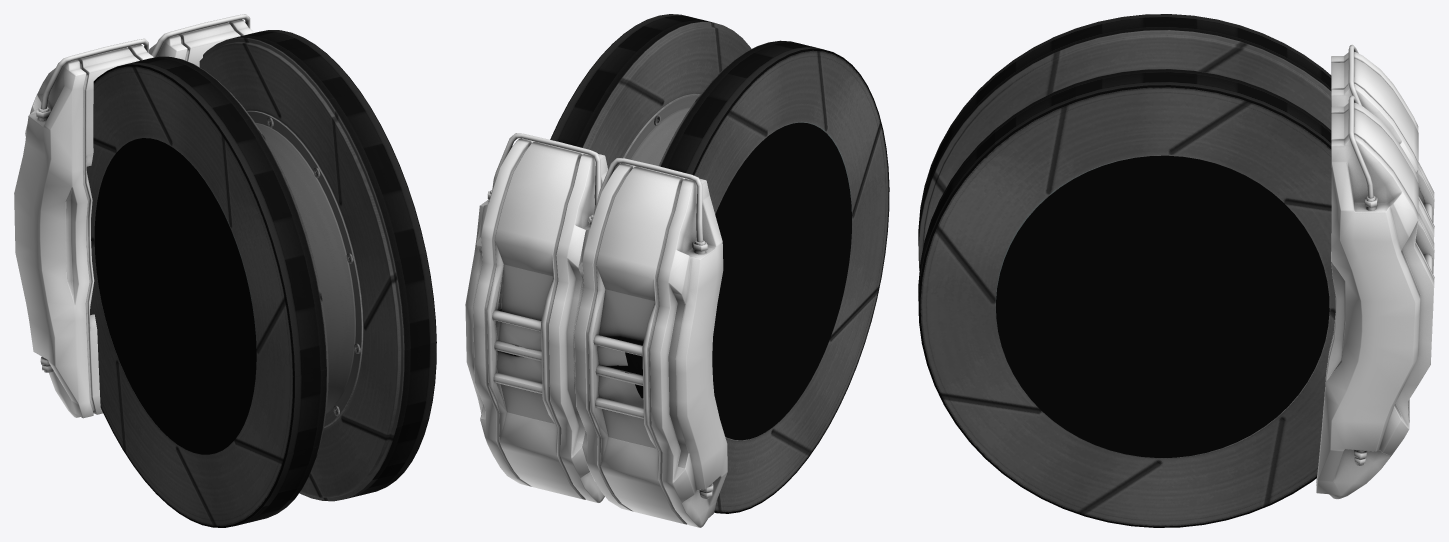
The model's file is mu_brakes.fbx.
The picture shows the model from 3 angles, left to right: view 1: azimuth 30°, elevation 25°; view 2: azimuth 150°, elevation 25°; view 3: azimuth 270°, elevation 25°; orthographic projection. The views are drawn at different scales.
Visible parts, largest first — view 1: mu_rotor, mu_rotor_R, mu_caliper, mu_caliper_R; view 2: mu_rotor, mu_caliper, mu_caliper_R, mu_rotor_R; view 3: mu_rotor_R, mu_caliper_R, mu_rotor, mu_caliper.
Boxes of the visible parts, x1=… form: mu_rotor: x1=86, y1=56, x2=328, y2=527; mu_rotor_R: x1=199, y1=30, x2=436, y2=501; mu_caliper: x1=14, y1=38, x2=153, y2=418; mu_caliper_R: x1=149, y1=14, x2=254, y2=67; mu_rotor: x1=625, y1=40, x2=889, y2=513; mu_caliper: x1=573, y1=158, x2=727, y2=527; mu_caliper_R: x1=465, y1=133, x2=607, y2=502; mu_rotor_R: x1=550, y1=14, x2=751, y2=170; mu_rotor_R: x1=918, y1=69, x2=1335, y2=527; mu_caliper_R: x1=1316, y1=95, x2=1434, y2=499; mu_rotor: x1=918, y1=14, x2=1331, y2=270; mu_caliper: x1=1331, y1=44, x2=1434, y2=241.
Bounding box in the file's own units: 12.91 × 24.04 × 25.4.
4 materials, 4 textured.
